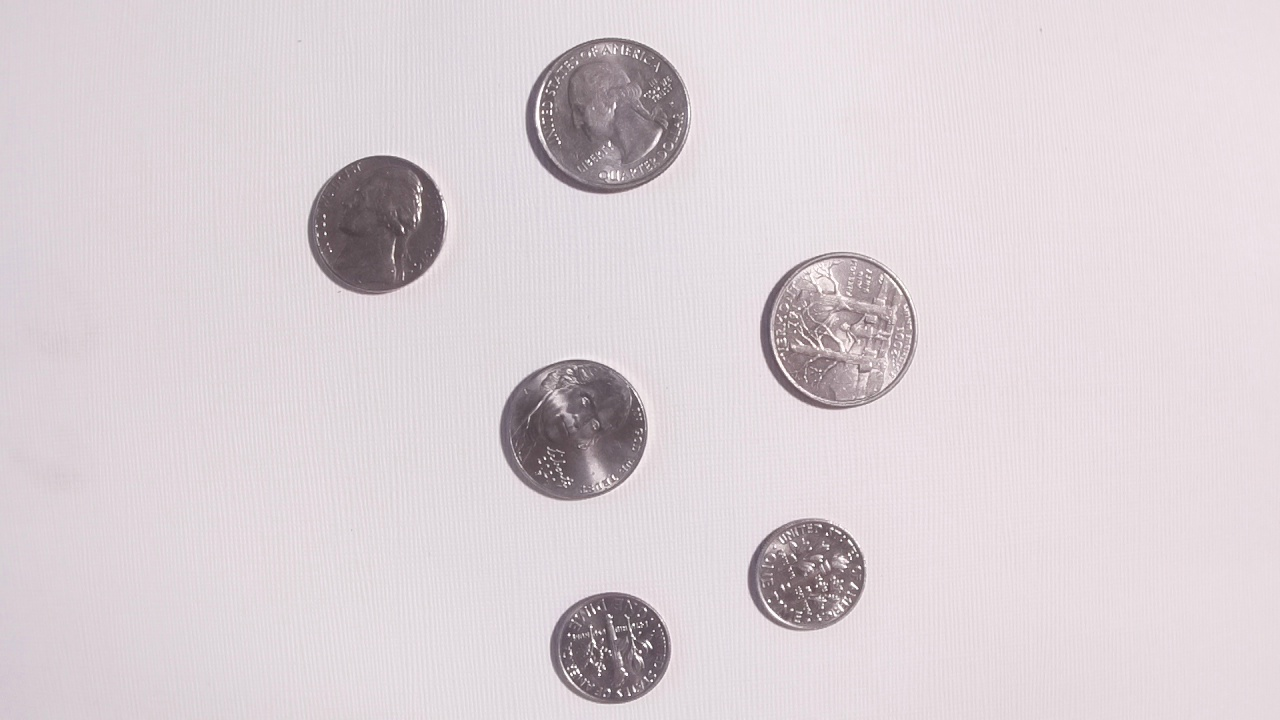dime: (545, 588, 677, 710), (743, 516, 873, 634)
nickel: (488, 351, 660, 507), (300, 152, 456, 300)
quarter: (524, 34, 694, 196), (759, 248, 921, 412)
